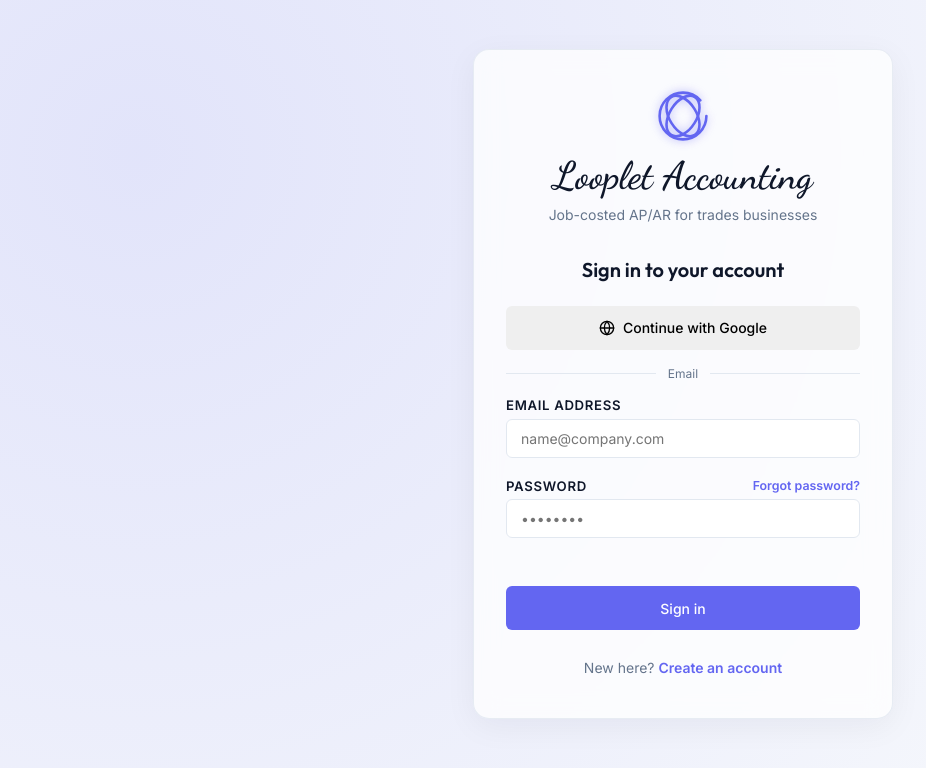
Test: LoginPage accessibility › announces sign-in errors via the live region
Type "user@example.com" into the field labelled "Email Address" at (683, 438), box [506,419,860,458]
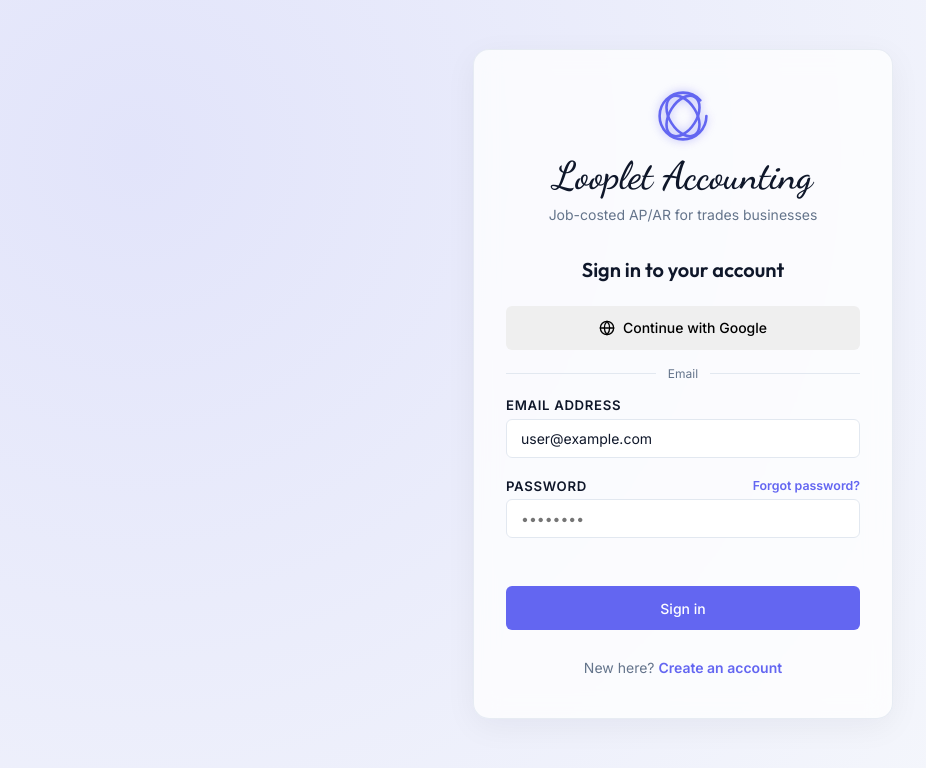
Type "wrong-password" into the password field labelled "Password" at (683, 519), box [506,499,860,538]
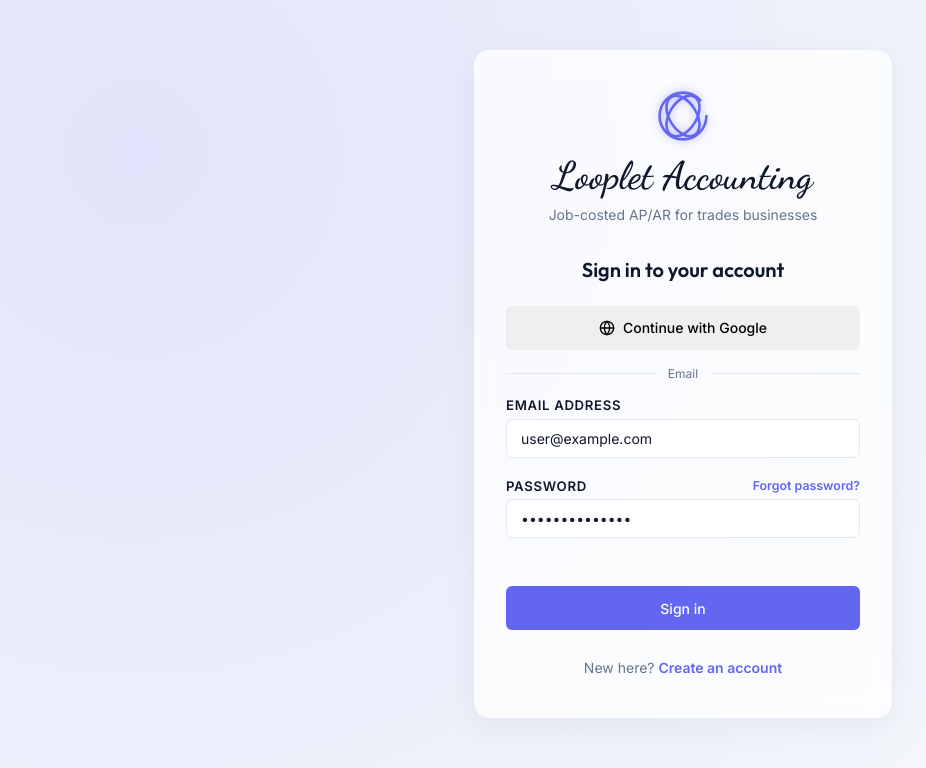
Click the button "Sign in" at (683, 608), box [506,586,860,630]
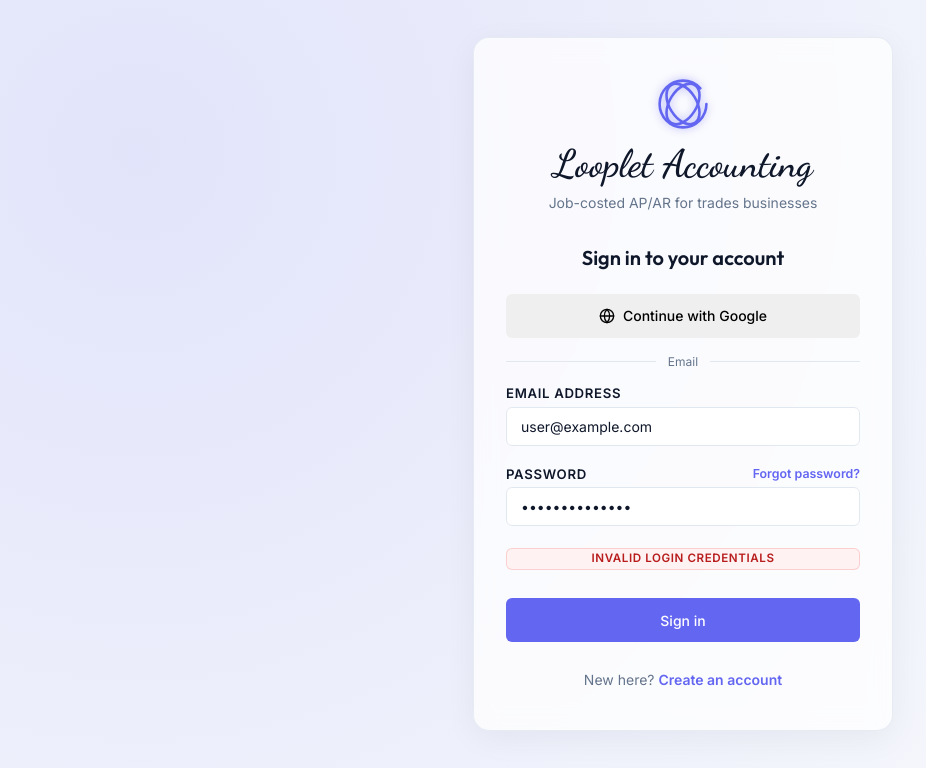
Expected: the message reads "Invalid login credentials", [592,551,774,565]
